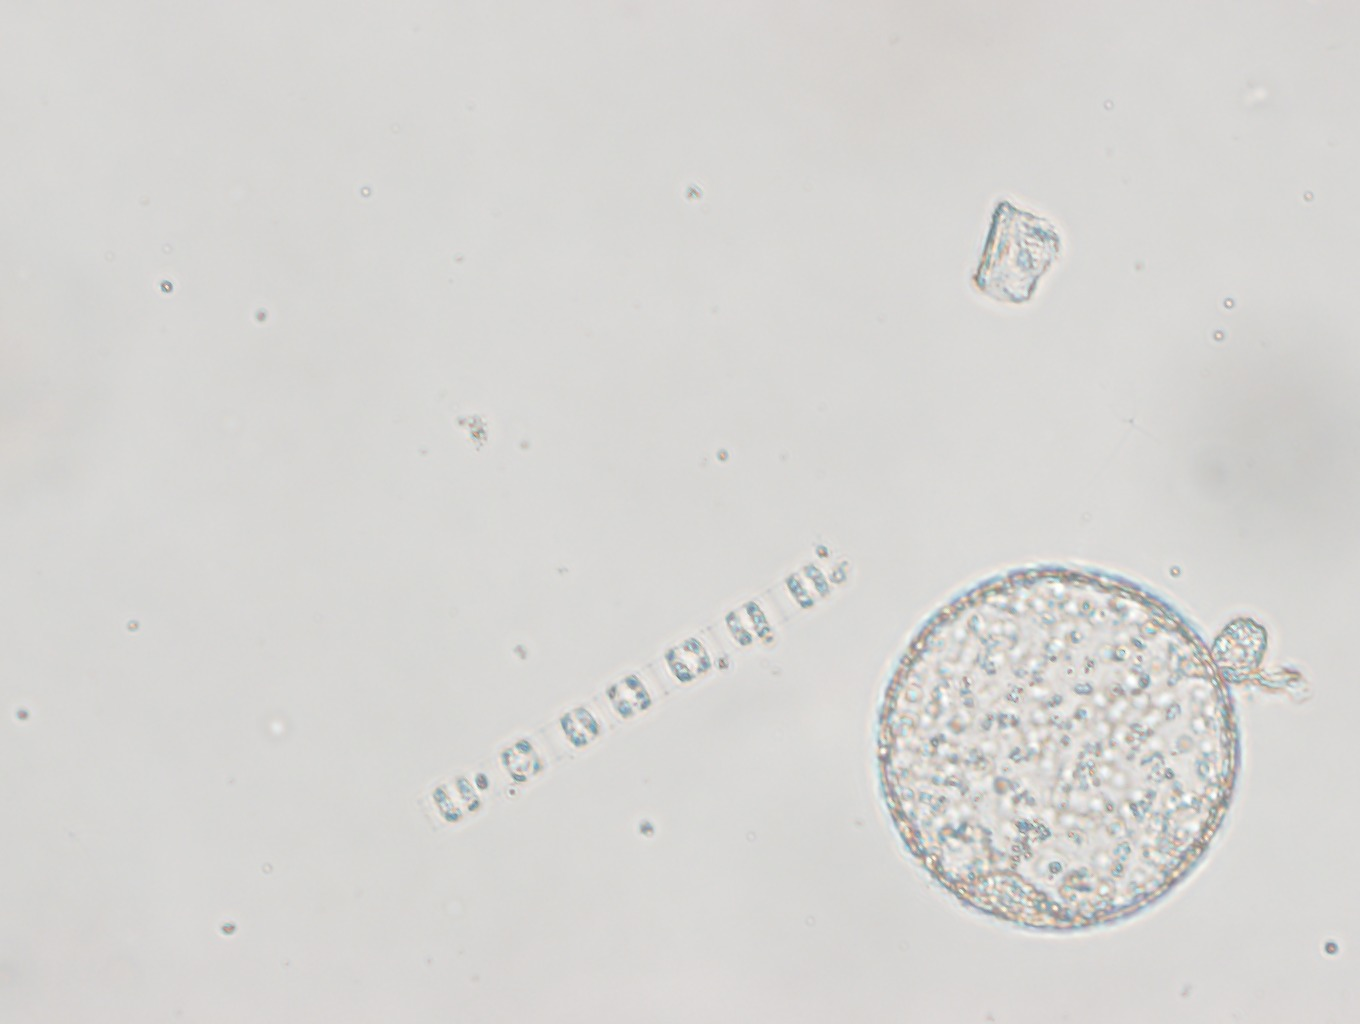coscinodiscus: (871, 558, 1246, 936)
skeletonema: (266, 490, 849, 839)
